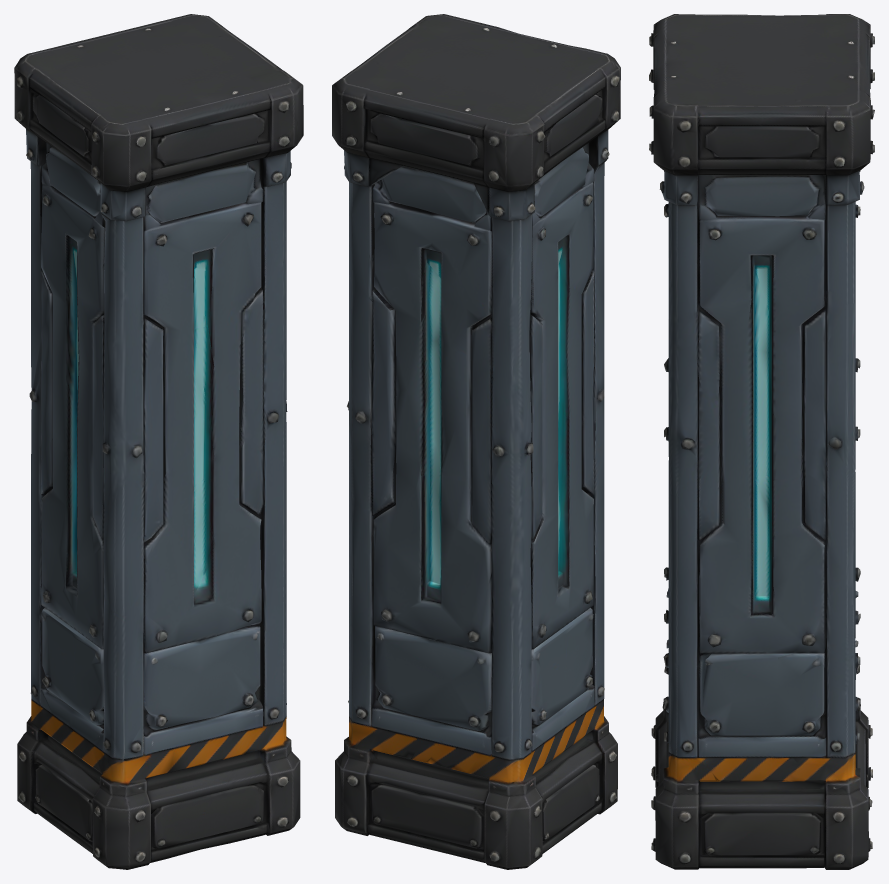
File: prop_pillar.glb
The picture shows the model from 3 angles, left to right: view 1: azimuth 30°, elevation 25°; view 2: azimuth 150°, elevation 25°; view 3: azimuth 270°, elevation 25°; orthographic projection. The views are drawn at different scales.
Visible parts, largest first — view 1: tripo_node_9b829d16-f4a4-4c7f-8cae-da5db6cf5797; view 2: tripo_node_9b829d16-f4a4-4c7f-8cae-da5db6cf5797; view 3: tripo_node_9b829d16-f4a4-4c7f-8cae-da5db6cf5797.
Boxes of the visible parts, left/top/right/bottom form: tripo_node_9b829d16-f4a4-4c7f-8cae-da5db6cf5797: left=14, top=14, right=303, bottom=869; tripo_node_9b829d16-f4a4-4c7f-8cae-da5db6cf5797: left=332, top=14, right=620, bottom=869; tripo_node_9b829d16-f4a4-4c7f-8cae-da5db6cf5797: left=649, top=14, right=874, bottom=869.
Bounding box in the file's own units: 0.2839 × 0.9793 × 0.2622.
Materials: 1 (1 with a texture image).
